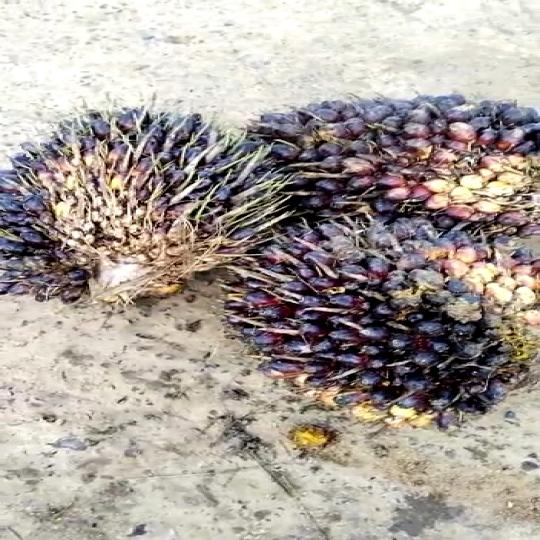mentah: (149, 220, 540, 415), (0, 94, 279, 324), (180, 90, 535, 241)
